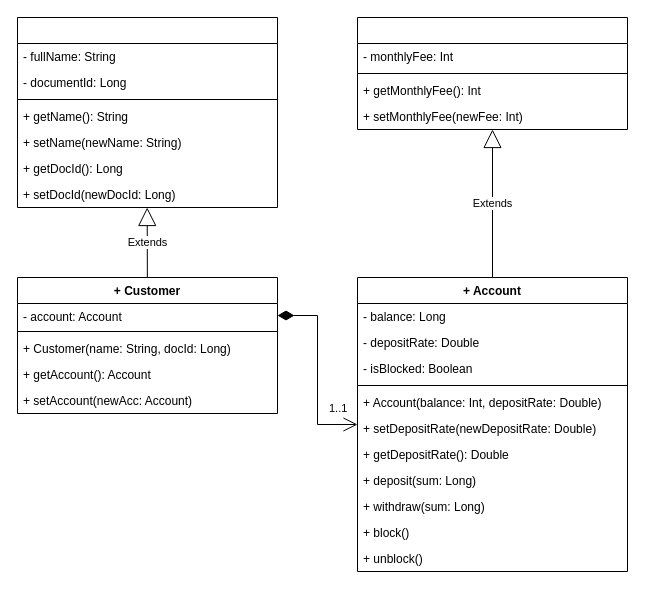
Some shapes in this 645 by 592 pixel diagram are drawn without their labels. Each missing label, with the box of its shape:
+ BankProduct: (356, 16, 628, 130)
+ Person: (16, 16, 278, 208)
